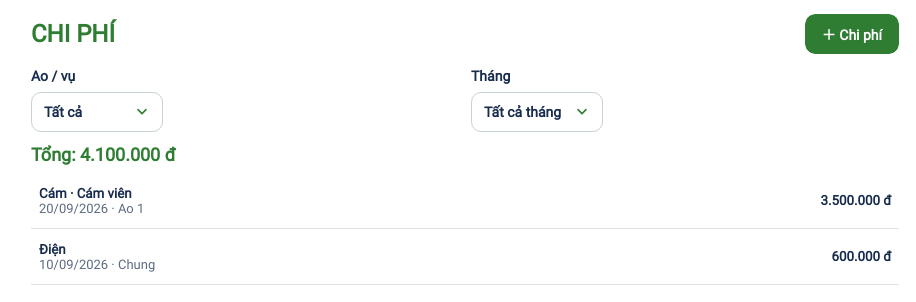
lọc theo Chung / theo vụ
This screenshot has width=916, height=302.
Click the button with id "expenseScope".
click(97, 112)  # box x1=31 y1=92 x2=163 y2=132
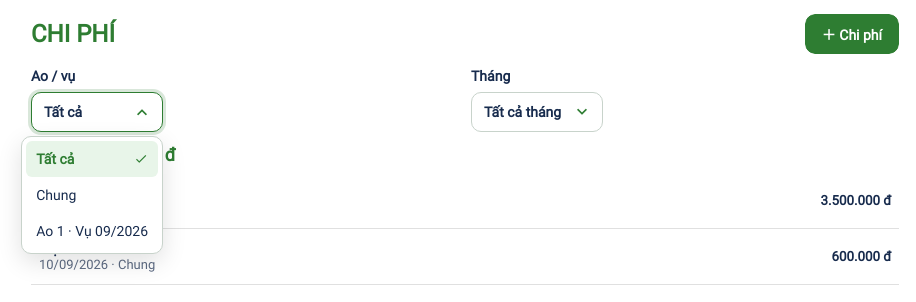
Click the option "Chung".
click(56, 195)  # box x1=36 y1=187 x2=76 y2=203
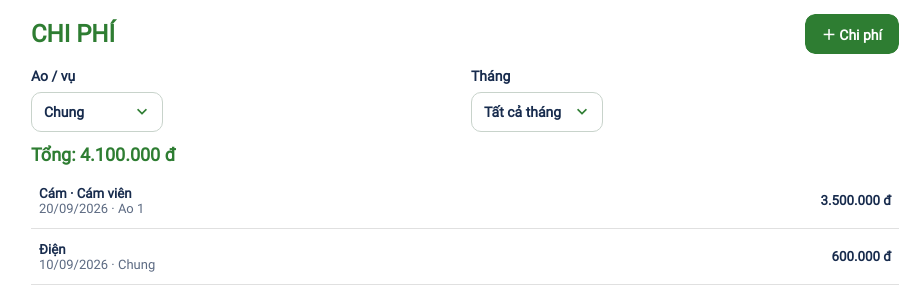
Click the button with id "expenseScope".
click(97, 112)  # box x1=31 y1=92 x2=163 y2=132
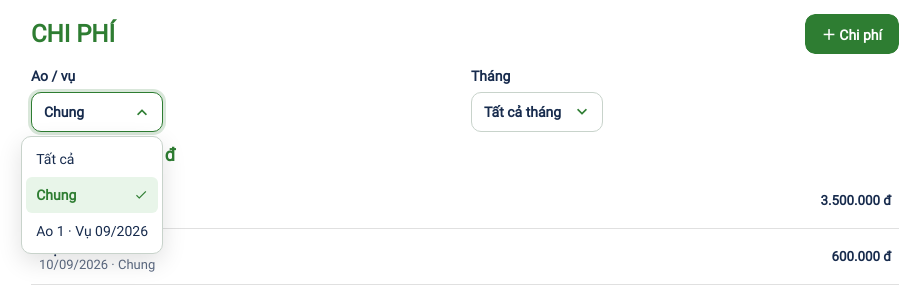
Click the option "Ao 1 · Vụ 09/2026".
click(92, 231)  # box x1=36 y1=223 x2=148 y2=239
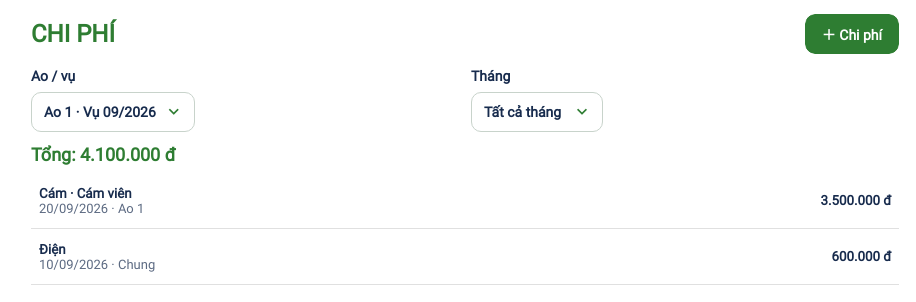
Result: the button with id "expenseScope" reads "Ao 1 · Vụ 09/2026" at x1=31 y1=92 x2=195 y2=132
